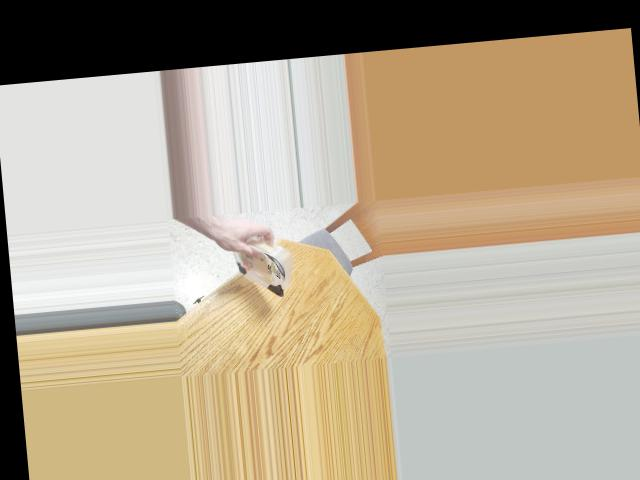cheese: (214, 236, 301, 299)
